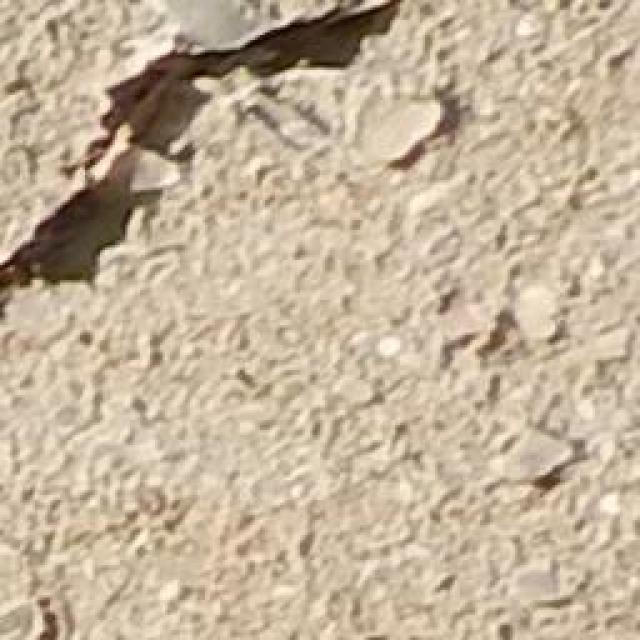concrete-crack: (0, 0, 416, 302)
